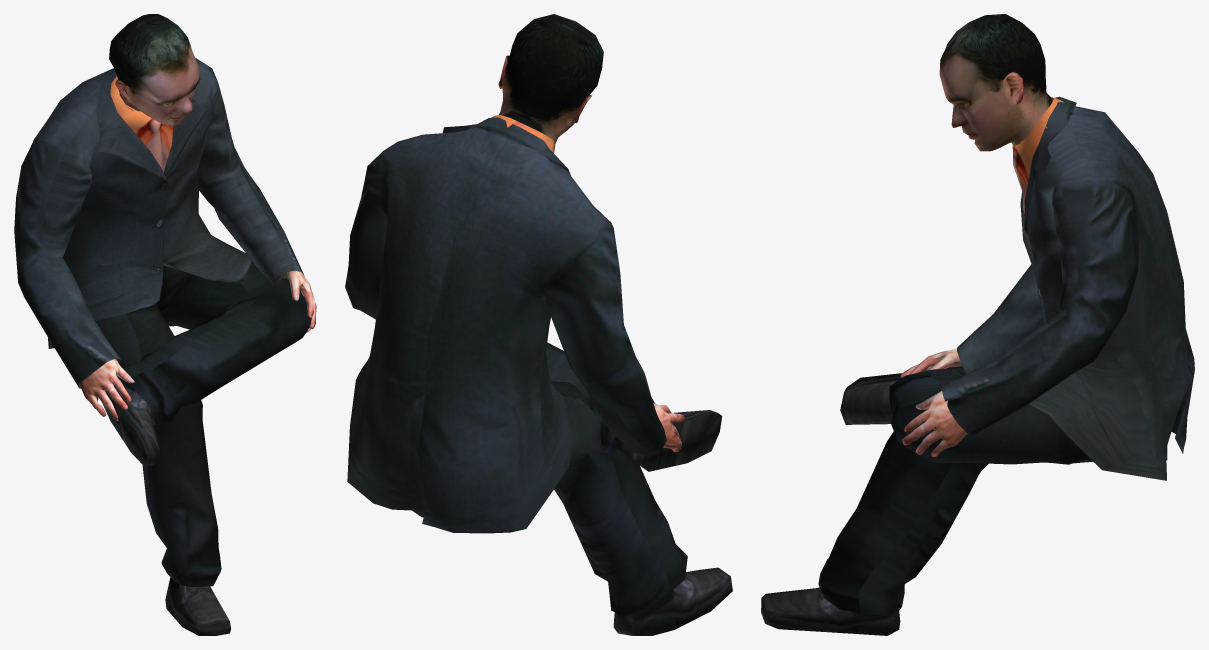
Rendered from 3DGJ_pj03_qyp.FBX.
3 renders of one model, left to right at view 1: azimuth 30°, elevation 25°; view 2: azimuth 150°, elevation 25°; view 3: azimuth 270°, elevation 25°, orthographic. The views are drawn at different scales.
Parts seen in each view (by area): view 1: 3DGJ_pj03_qyp; view 2: 3DGJ_pj03_qyp; view 3: 3DGJ_pj03_qyp.
Part boxes in pixels (x1,y1,x2,y2): 3DGJ_pj03_qyp: (14,14,316,635); 3DGJ_pj03_qyp: (345,14,732,635); 3DGJ_pj03_qyp: (761,14,1194,635).
Size of the model in its own units: 0.6774 by 1.43 by 0.9035.
